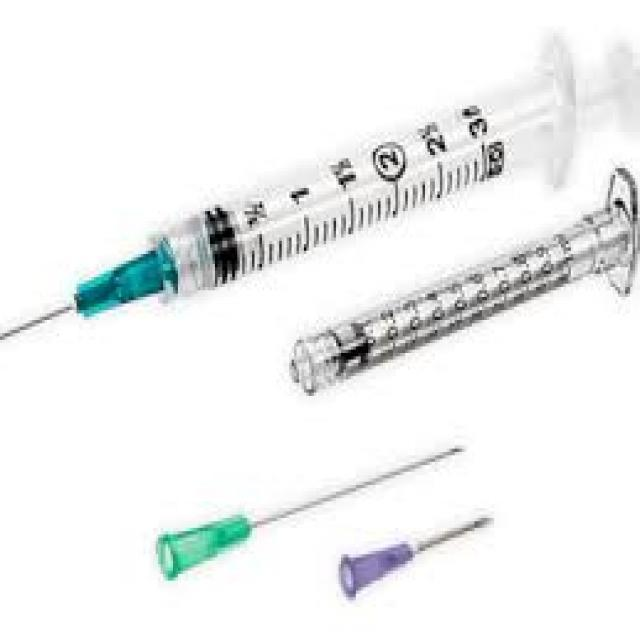syringe: (65, 55, 640, 466)
